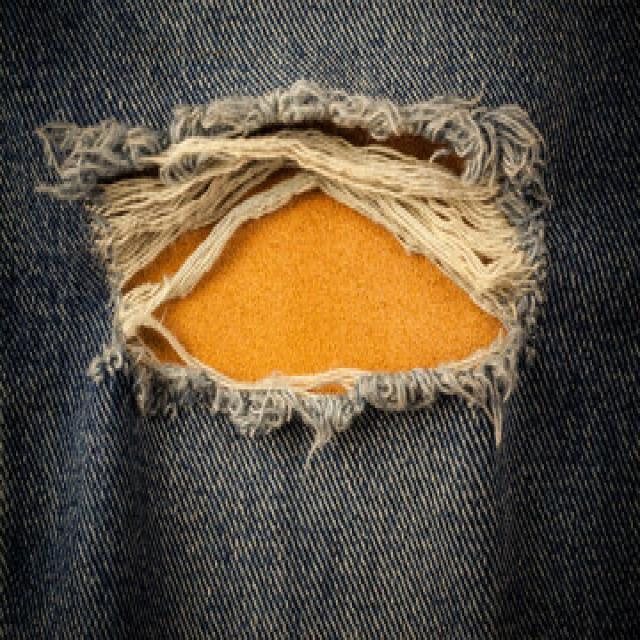Hole: (38, 81, 546, 452)
